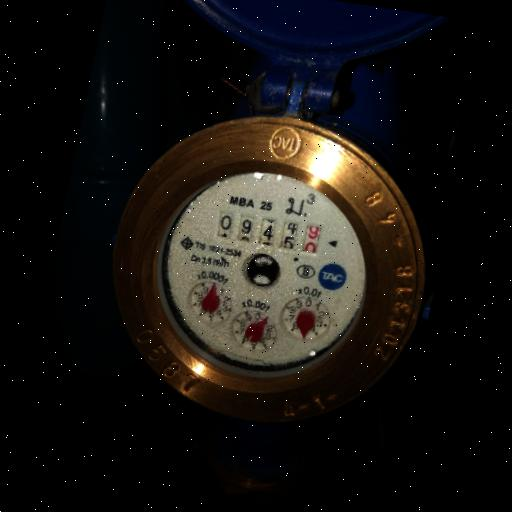0: (216, 211, 234, 240)
4: (278, 220, 298, 250), (257, 217, 276, 247)
9: (236, 214, 255, 243), (303, 224, 322, 253)
border_water_meter_number: (216, 208, 322, 255)
